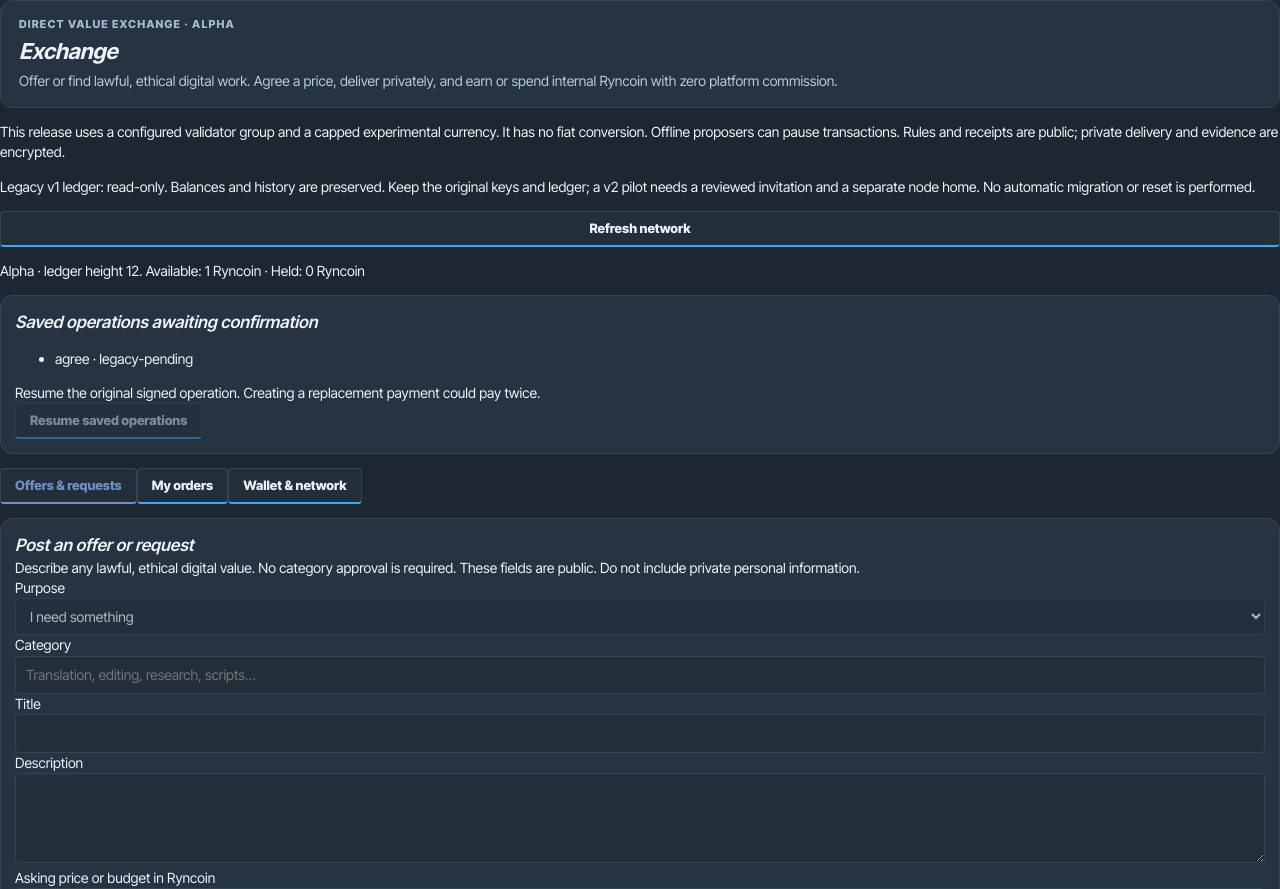
Scenario: keeps legacy balances and private deliveries readable while disabling mutations
This screenshot has width=1280, height=889.
Expected: the message shows "Legacy v1 ledger: read-only", [0,178,1255,195]
Expected: the button "Resume saved operations" is disabled, [15,403,202,439]
Click the button "My orders" at [182, 486], box [137,468,228,504]
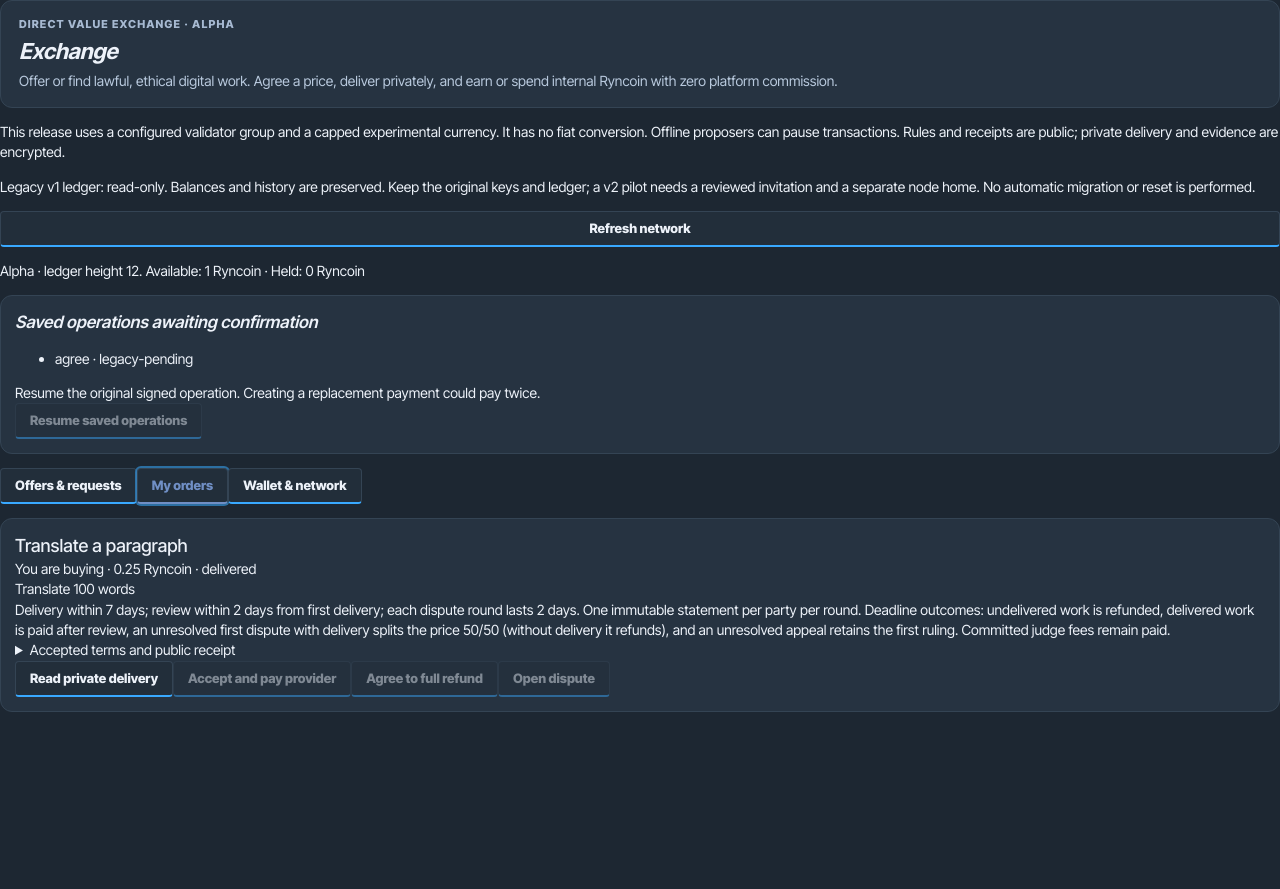
Click the button "Read private delivery" at [94, 679], box [15,661,173,696]
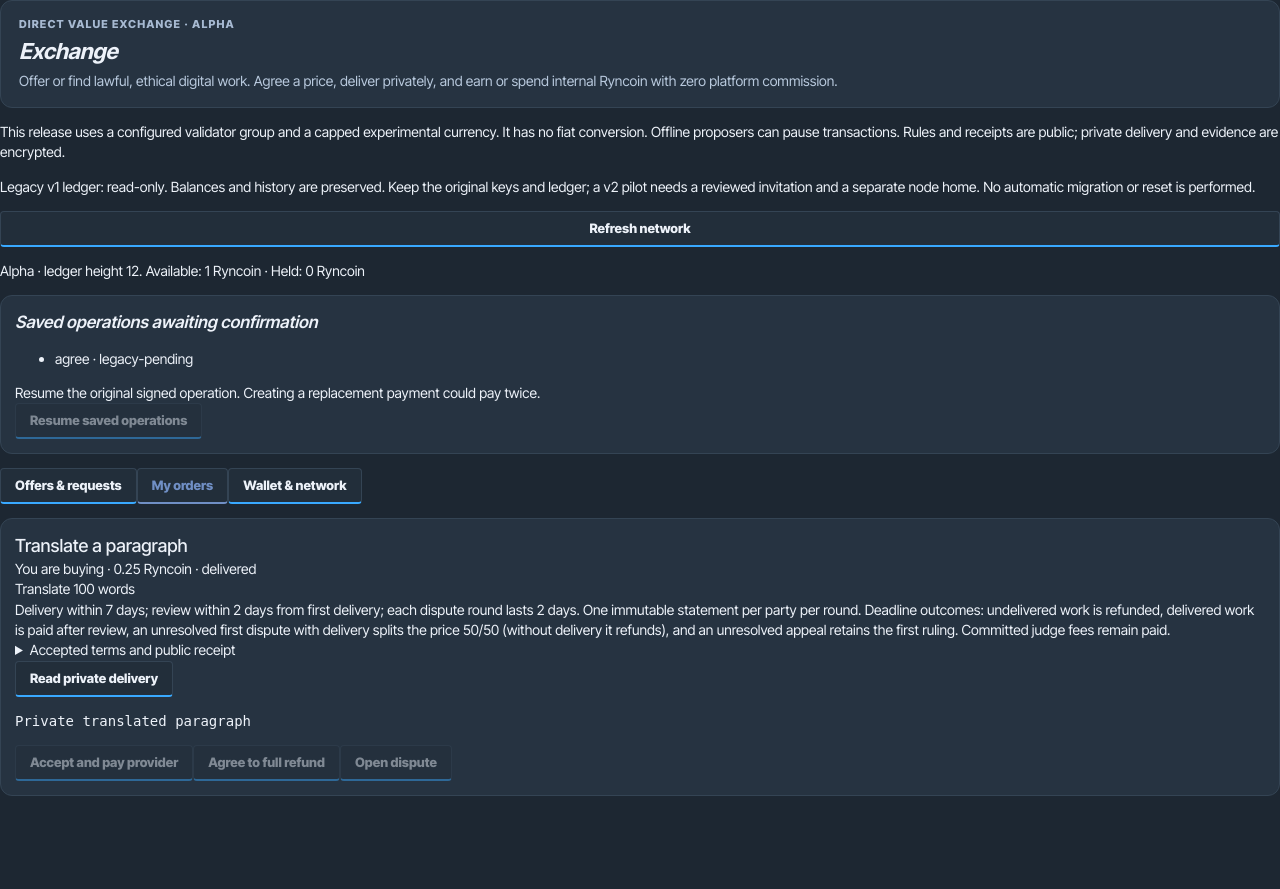
Now the button "Accept and pay provider" is disabled, box [15,745,193,781]
Now the text "Private translated paragraph" is shown, box [15,712,251,728]
